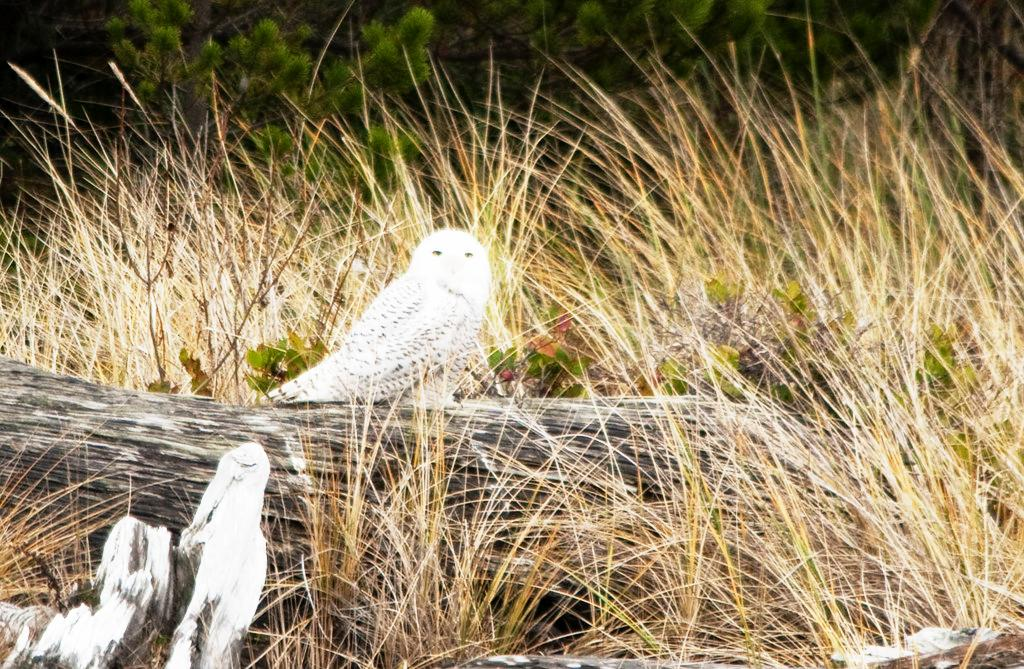Owl: (266, 230, 494, 406)
